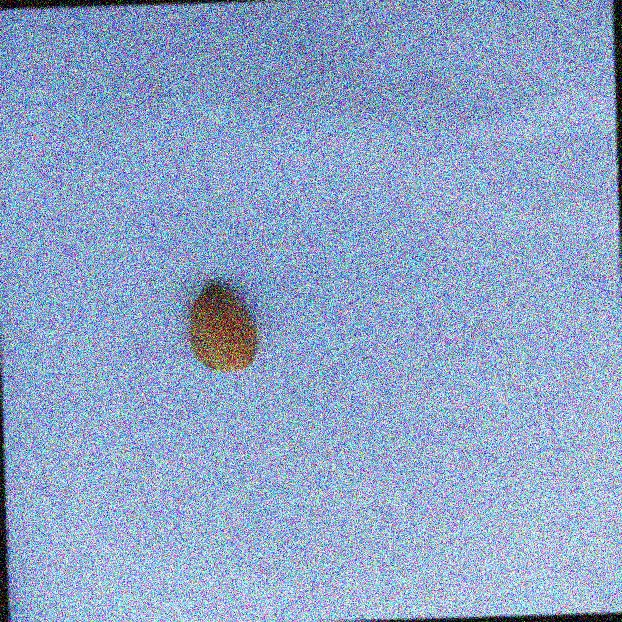grade2: (184, 280, 265, 376)
